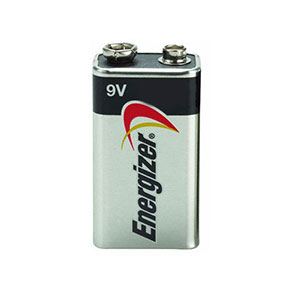Nonrec_Other: (73, 22, 209, 258)
